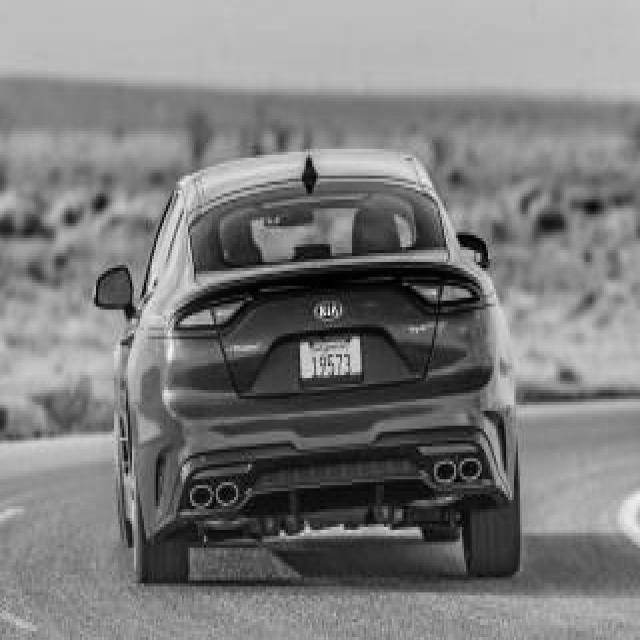Car: (95, 150, 520, 580)
